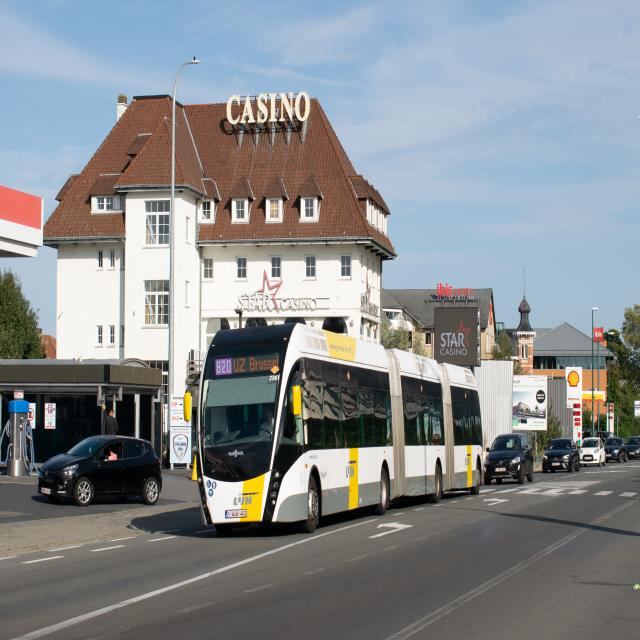bus-number: (215, 360, 232, 374)
